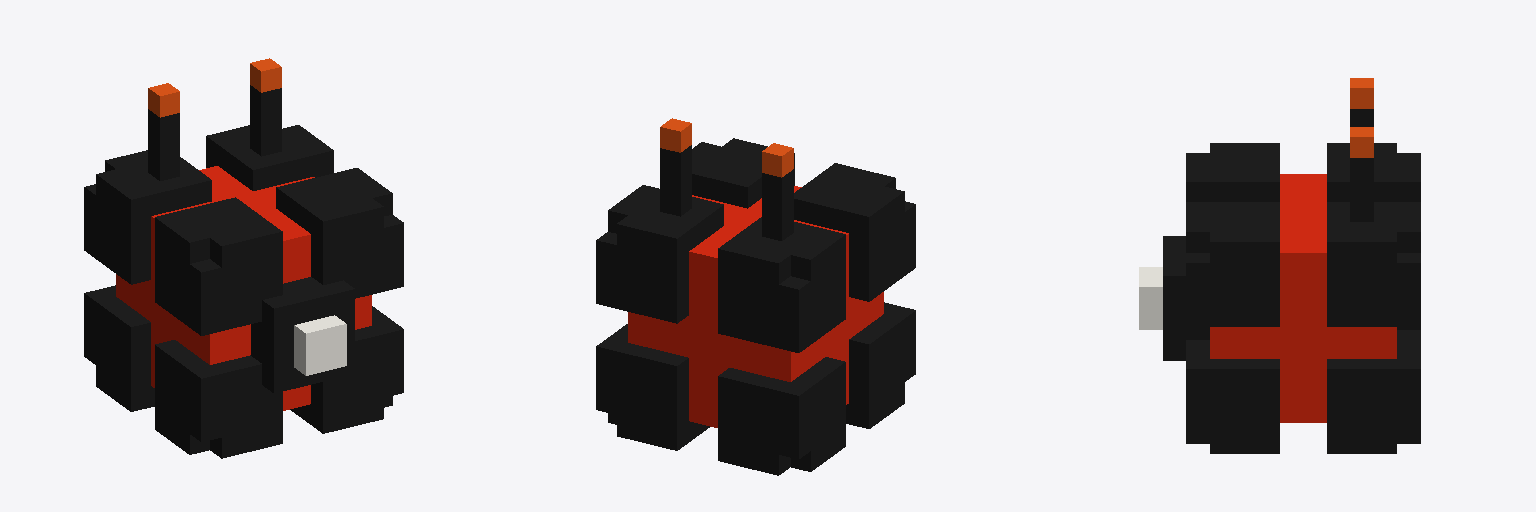
3 views of the same model, side by side, from view 1: azimuth 30°, elevation 25°; view 2: azimuth 150°, elevation 25°; view 3: azimuth 270°, elevation 25° (orthographic).
Parts seen in each view (by area): view 1: object 1; view 2: object 1; view 3: object 1.
Boxes of the visible parts, <box> form: object 1: <box>84,58,403,458</box>; object 1: <box>596,118,915,475</box>; object 1: <box>1139,78,1420,453</box>.
Bounding box in the file's own units: 1 × 1.4 × 1.2.
1 materials, 1 textured.